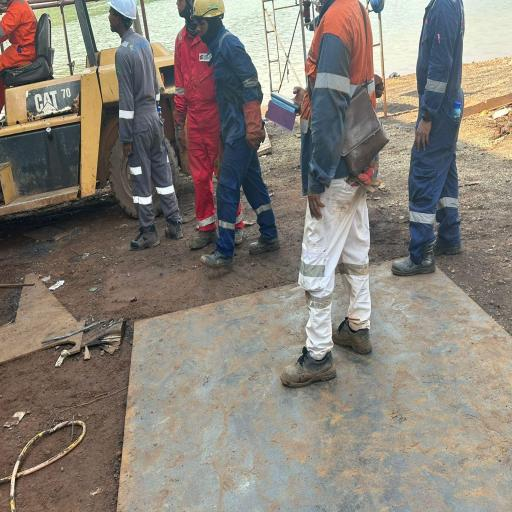safety_shoe: (280, 351, 336, 387), (392, 239, 436, 276), (332, 318, 374, 356), (432, 233, 464, 258), (198, 249, 234, 270), (186, 230, 220, 252), (248, 235, 281, 256), (129, 230, 161, 251), (164, 220, 183, 242), (233, 228, 244, 244)
